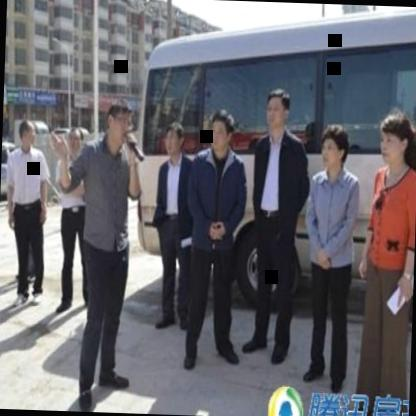head: (376, 112, 412, 172), (102, 95, 134, 158), (318, 121, 352, 176), (205, 106, 238, 159), (264, 87, 296, 138), (161, 121, 187, 162), (17, 114, 38, 153), (64, 122, 84, 162)
